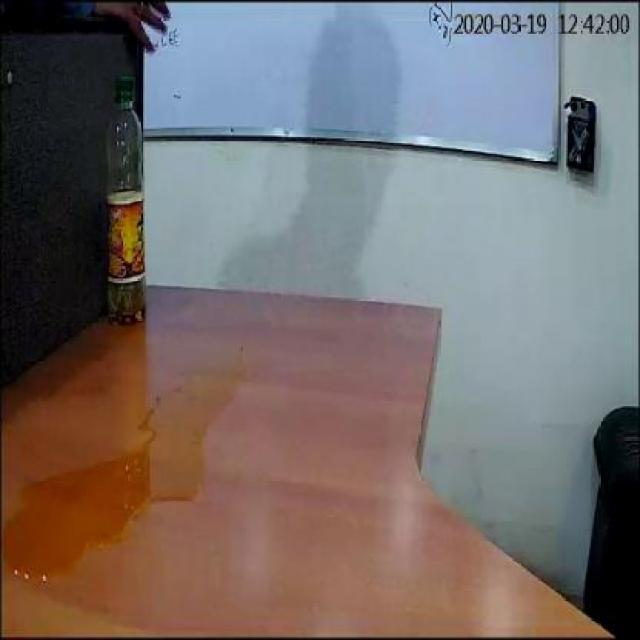spill: (10, 368, 238, 582)
